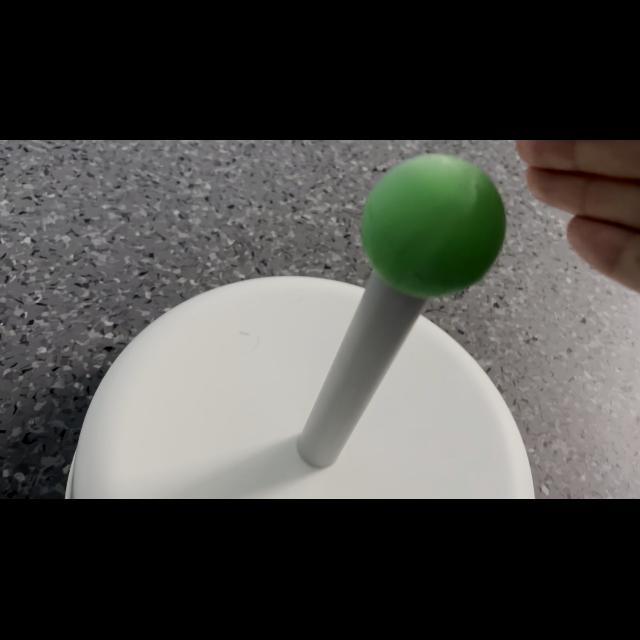objects: (354, 149, 512, 303)
